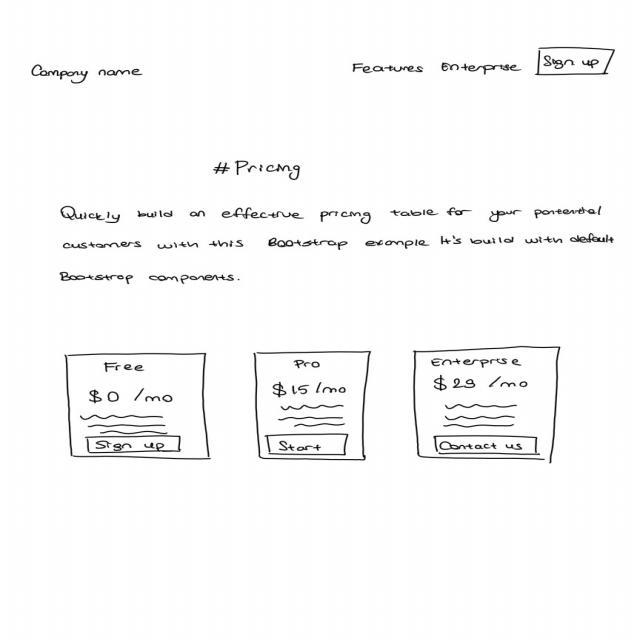button: (534, 45, 616, 77), (432, 434, 541, 456), (264, 432, 350, 456), (84, 435, 182, 453)
container: (412, 345, 562, 460), (64, 352, 210, 459), (254, 349, 372, 462)
label: (351, 60, 523, 76), (28, 63, 146, 84), (210, 158, 302, 182), (428, 372, 530, 390), (88, 387, 175, 404), (268, 381, 350, 399), (428, 354, 522, 368), (102, 359, 146, 372), (292, 359, 325, 369)
textbox: (58, 203, 616, 286), (441, 402, 520, 428), (78, 414, 170, 434), (276, 403, 346, 428)
